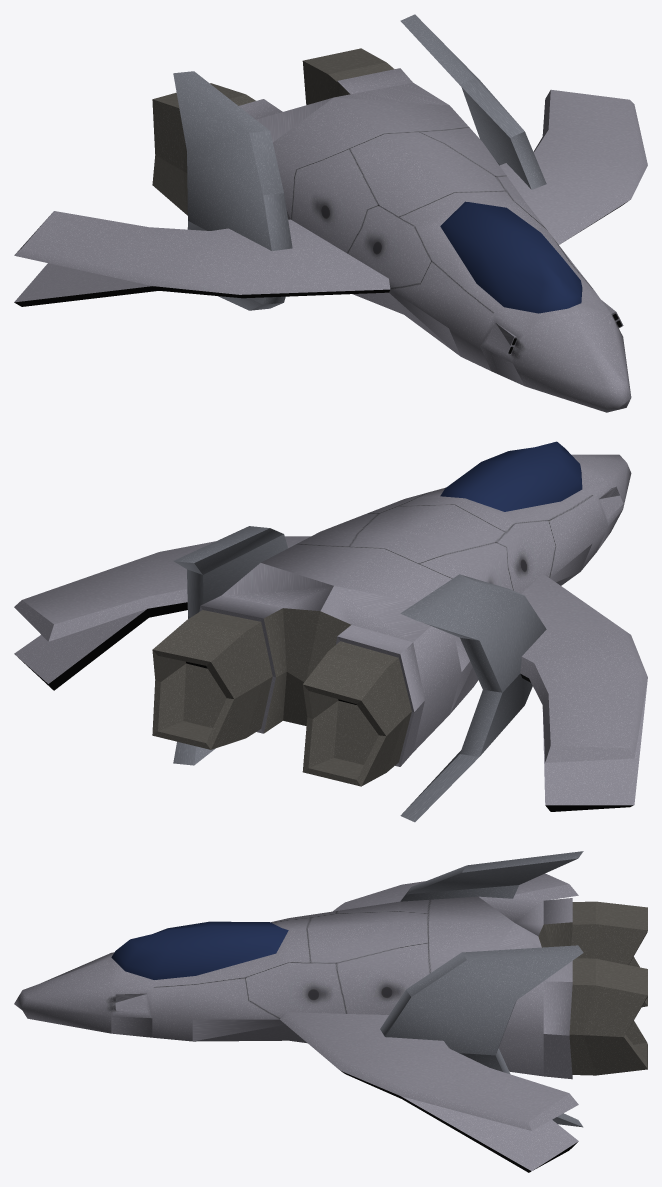
The model's file is ship.FBX.
3 renders of one model, top to bottom at view 1: azimuth 30°, elevation 25°; view 2: azimuth 150°, elevation 25°; view 3: azimuth 270°, elevation 25°, orthographic. The views are drawn at different scales.
Parts seen in each view (by area): view 1: Ship; view 2: Ship; view 3: Ship.
Boxes of the visible parts, <box> form: Ship: <box>14,14,647,412</box>; Ship: <box>14,441,647,822</box>; Ship: <box>14,851,647,1172</box>.
Size of the model in its own units: 650 by 202 by 666.
